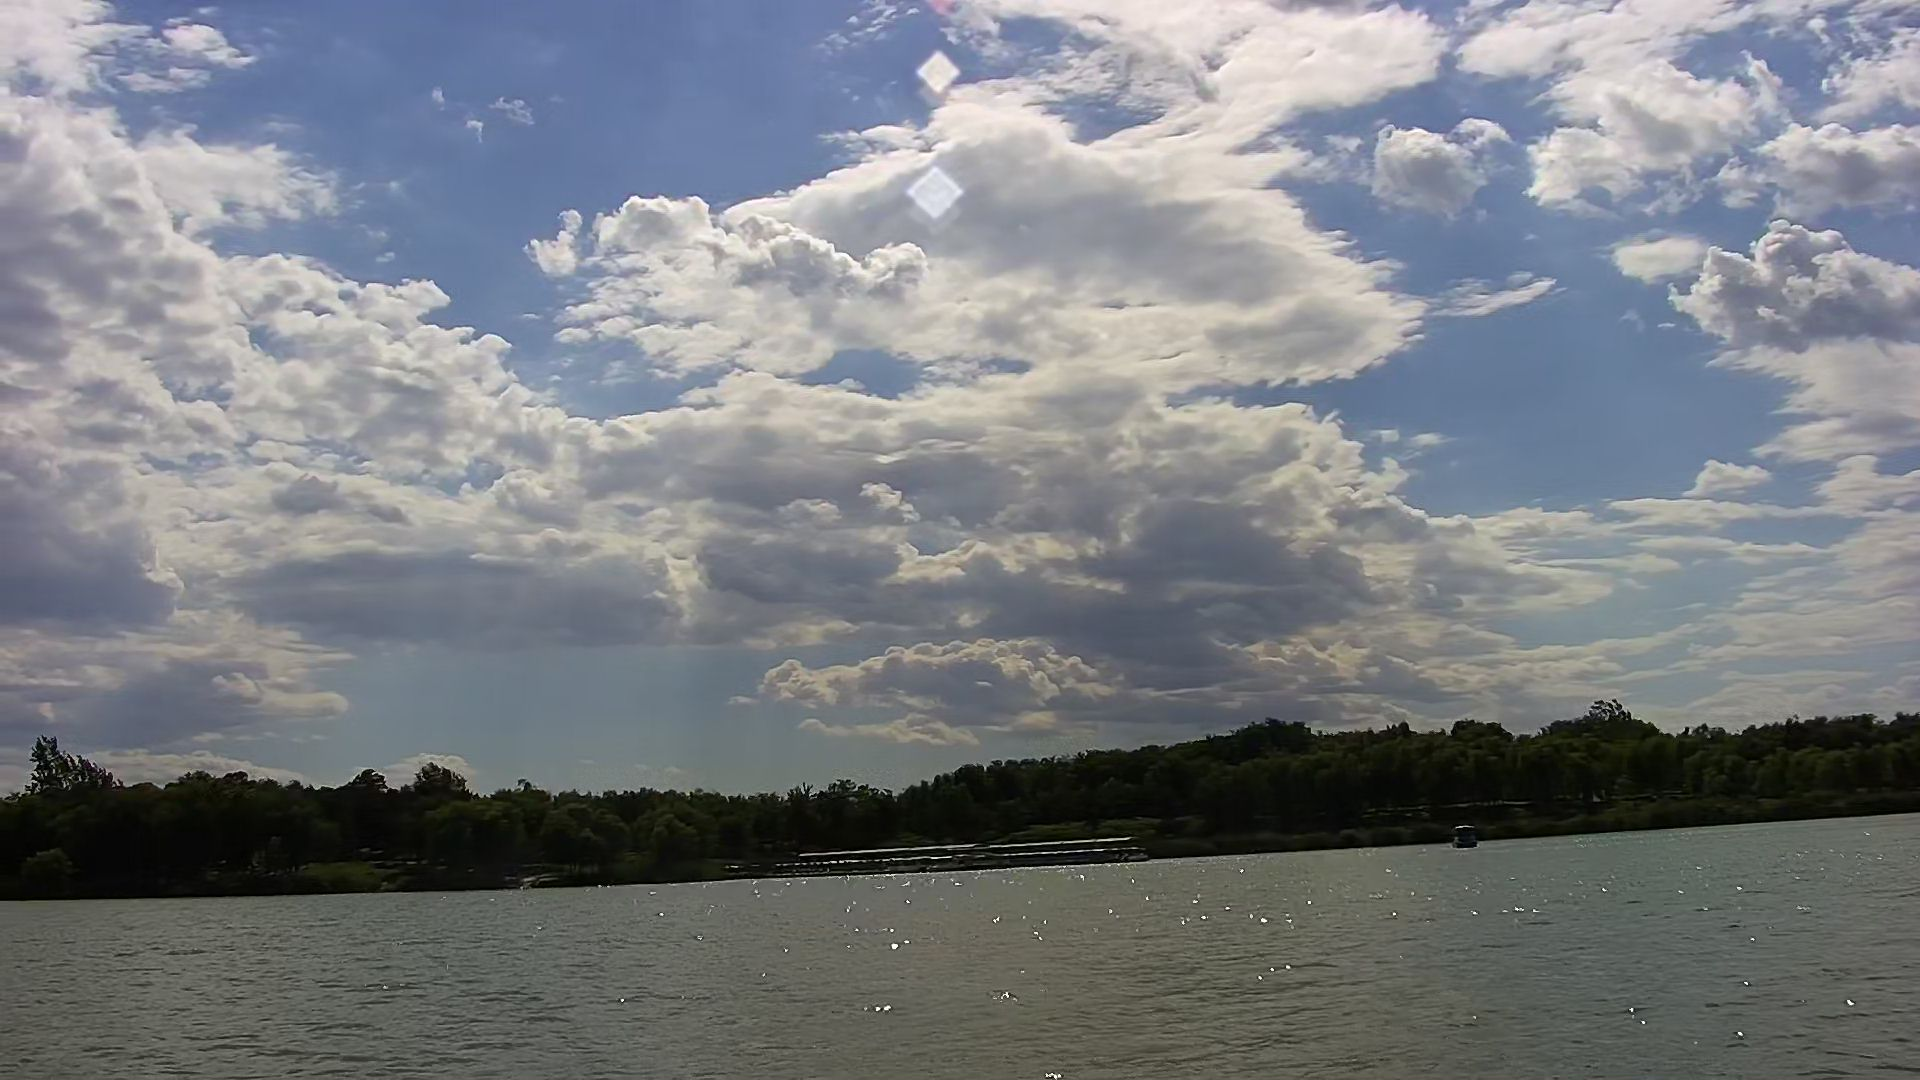boat: (1451, 818, 1480, 851)
harbor: (800, 829, 1137, 880)
